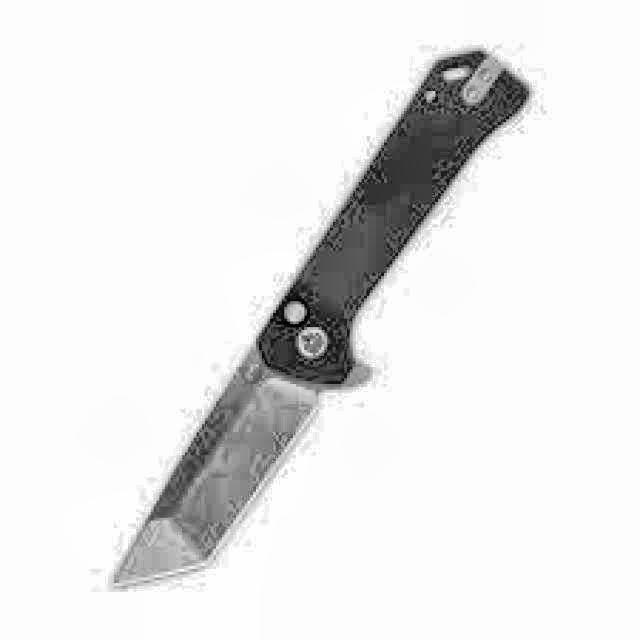knife: (102, 44, 535, 592)
